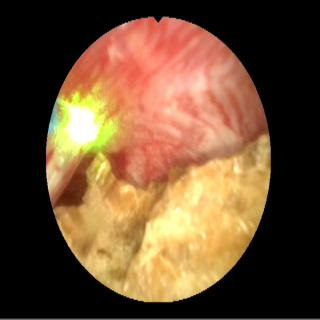laser: (55, 95, 112, 151)
stone: (56, 139, 266, 298)
tissue: (63, 20, 261, 184)
